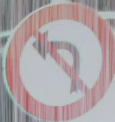Don't turn left: (15, 2, 98, 115)
